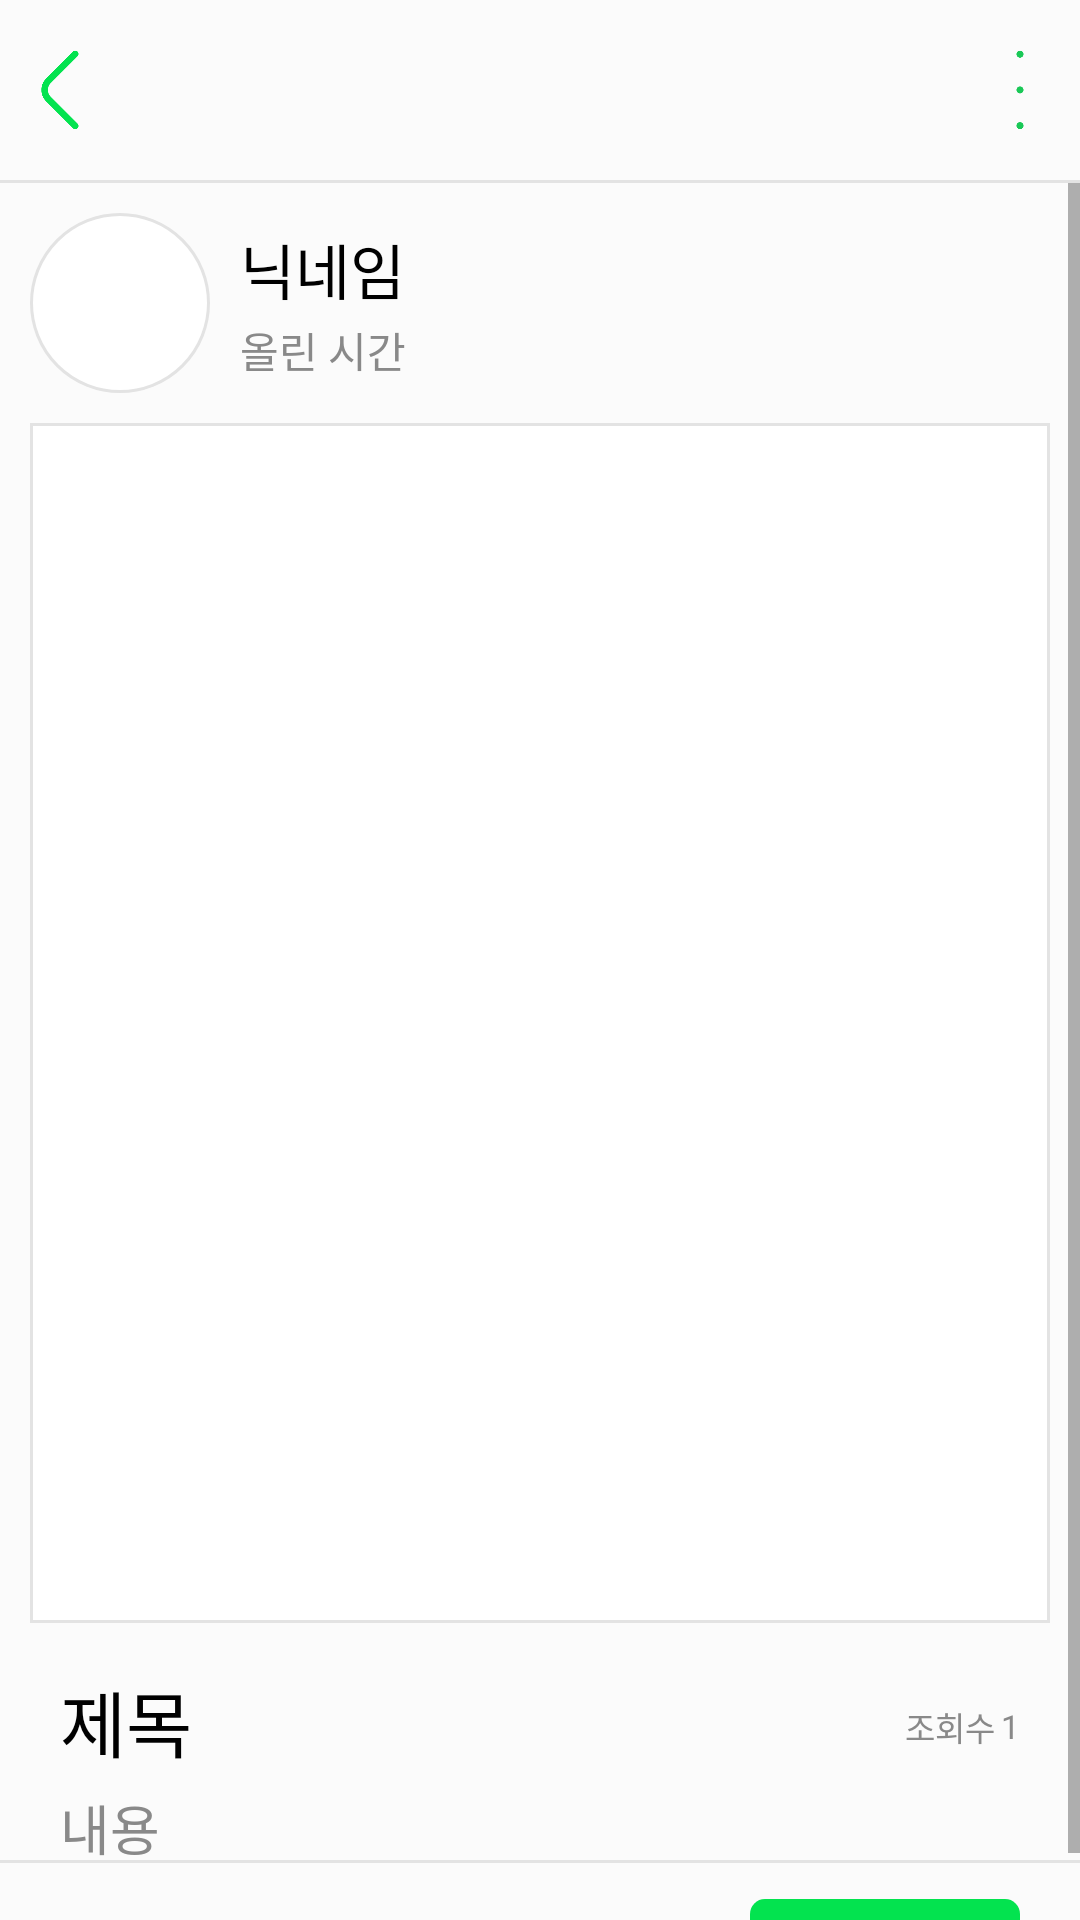

Where to tap for icons on this 1080 x 1920 app screen, as (x,y):
backbtn: (60,90)
